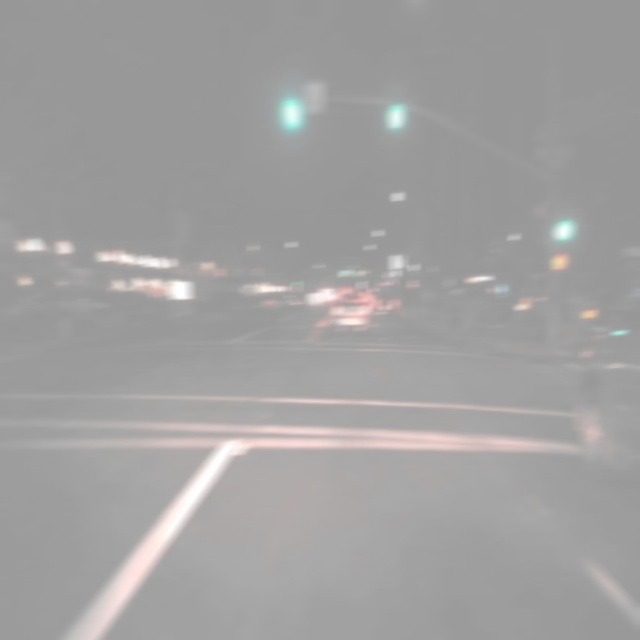go: (548, 195, 574, 248), (279, 74, 301, 132), (383, 80, 405, 136), (340, 260, 347, 280), (355, 262, 360, 276), (294, 274, 298, 290)
go traffic light: (548, 195, 574, 248), (279, 74, 301, 132), (383, 80, 405, 136), (340, 260, 347, 280), (355, 262, 360, 276), (294, 274, 298, 290)
